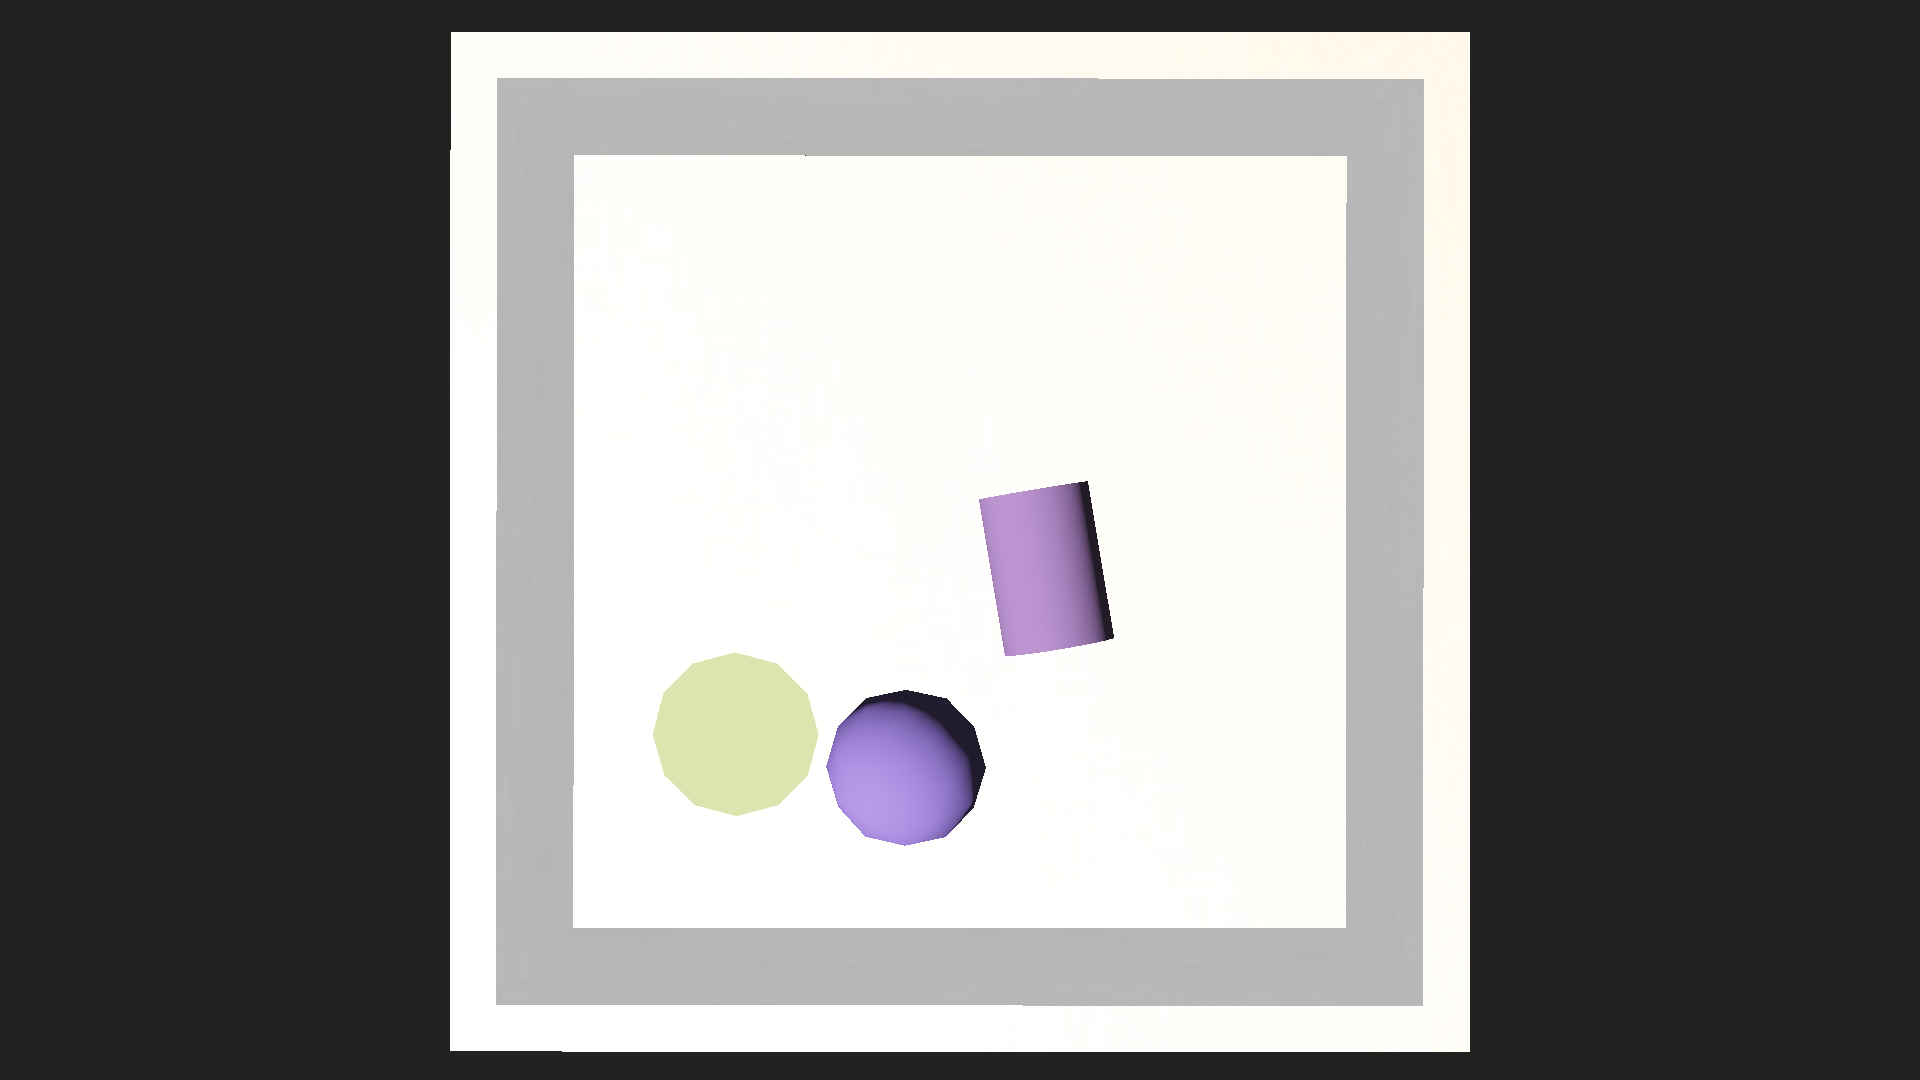cone: (977, 479, 1117, 657)
cylinder: (659, 637, 820, 810)
sphere: (825, 686, 985, 847)
